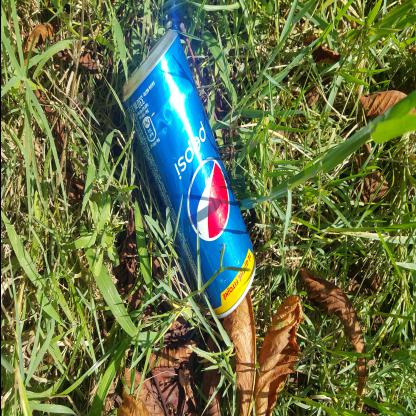metal: (26, 160, 320, 292)
